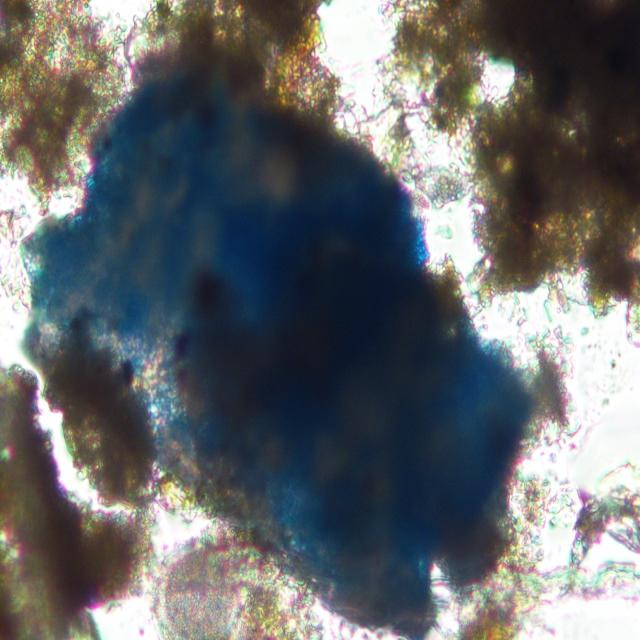Background material: (380, 0, 640, 353), (0, 364, 158, 637), (0, 0, 128, 199), (48, 345, 162, 509), (147, 0, 327, 93), (525, 326, 586, 447), (240, 550, 316, 638)
Cellulose filter fibre: (429, 484, 640, 618)
Diatom: (158, 538, 242, 639)
Fragment: (24, 52, 527, 639)
